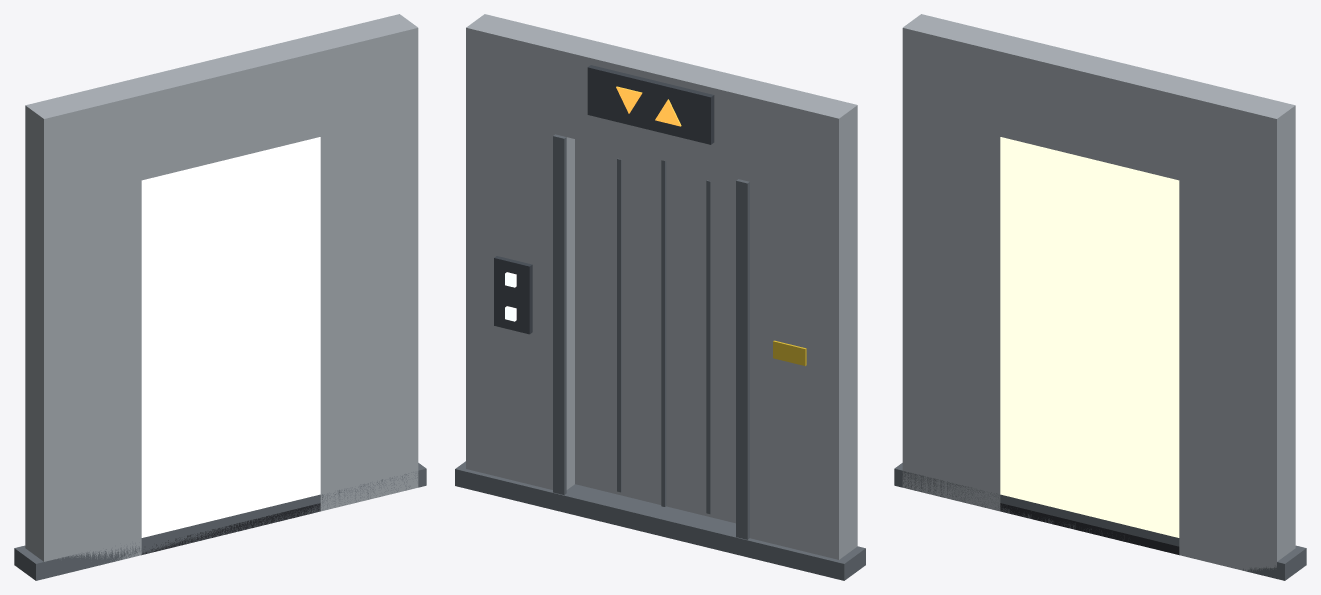
File: elevator_door.glb
The picture shows the model from 3 angles, left to right: view 1: azimuth 30°, elevation 25°; view 2: azimuth 150°, elevation 25°; view 3: azimuth 330°, elevation 25°; orthographic projection.
Visible parts, largest first — view 1: Body; view 2: Body, DoorR, DoorL; view 3: Body.
Boxes of the visible parts, x1,y1,x2,y2 form: Body: (14, 14, 426, 580); Body: (455, 14, 865, 580); DoorR: (575, 139, 661, 504); DoorL: (661, 160, 737, 523); Body: (894, 14, 1306, 580).
Bounding box in the file's own units: 2.4 × 2.7 × 0.25.
